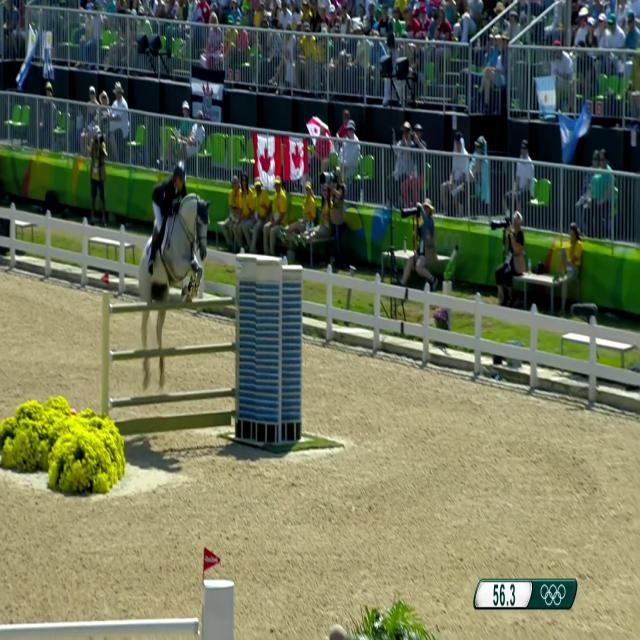Horse Jumping: (128, 143, 217, 394)
